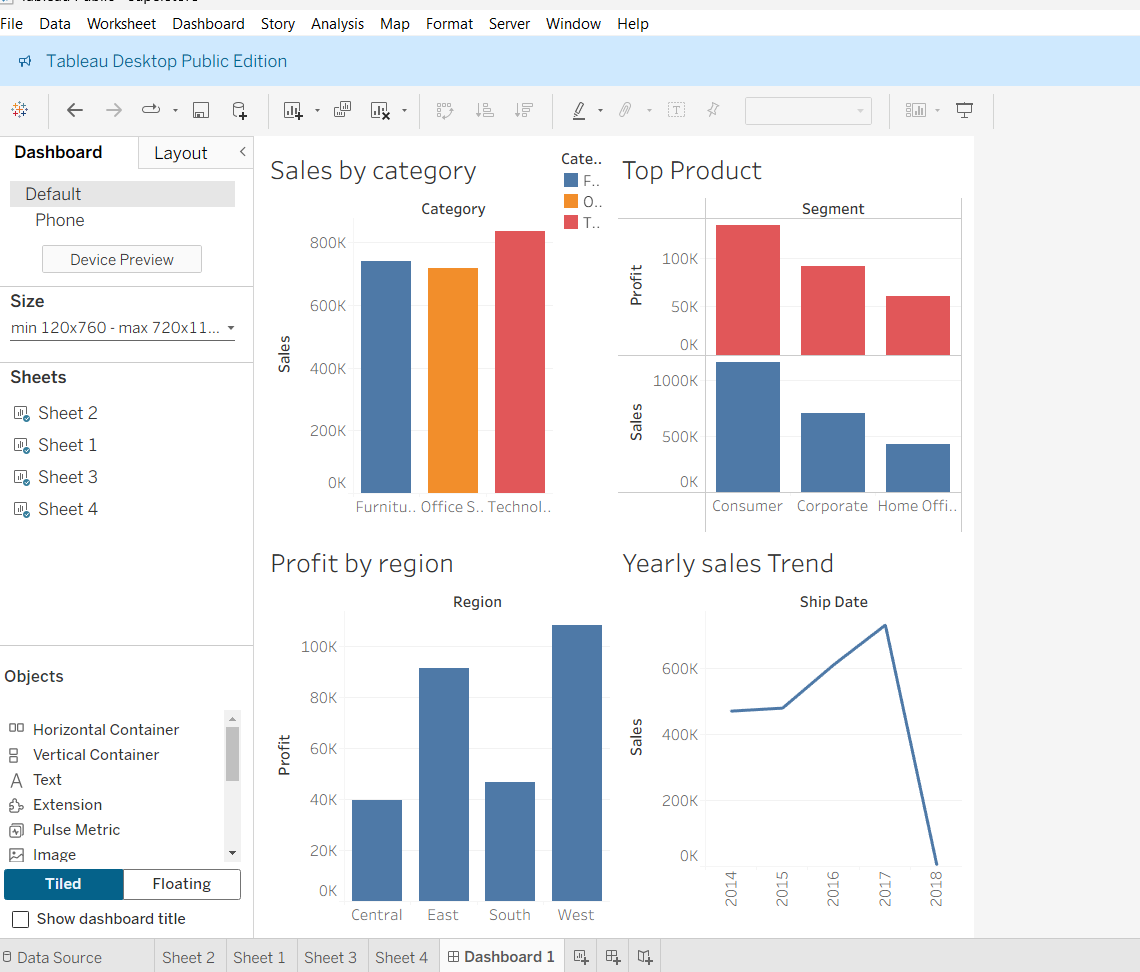

What the dashboard file says about the page in this screenshot:
{"tool":"tableau","page":{"name":"Dashboard 1","canvas":[1000,1000],"units":"permille","ordinal":0},"visuals":[{"type":"worksheet","title":"Sheet 1","mark":"Automatic","rows":["Sales"],"cols":["Category"],"box":[8.7,7.5,429.3,492.4]},{"type":"legend","title":"Sheet 1","param":"[federated.11f4l0s0tiya5619bsexk0tv5r39].[none:Category:nk]","box":[438,7.5,62,87.7]},{"type":"worksheet","title":"Sheet 4","mark":"Automatic","rows":["Profit","Sales"],"cols":["Segment"],"box":[500,7.5,491.3,492.4]},{"type":"worksheet","title":"Sheet 2","mark":"Automatic","rows":["Profit"],"cols":["Region"],"box":[8.7,500,491.3,492.5]},{"type":"worksheet","title":"Sheet 3","mark":"Automatic","rows":["Sales"],"cols":["Ship Date"],"box":[500,500,491.3,492.5]}]}

Visuals, with their boxes on the dashboard's canvas, which has no fixed pixel size, in thousandths of its width and height (x1, y1, x2, y2). These are canvas units, not pixel positions in the 1140x972 screenshot, which may show the page scaled, cropped or inside an application window:
"Sheet 1" worksheet: (9,8,438,500)
"Sheet 1" legend: (438,8,500,95)
"Sheet 4" worksheet: (500,8,991,500)
"Sheet 2" worksheet: (9,500,500,992)
"Sheet 3" worksheet: (500,500,991,992)
